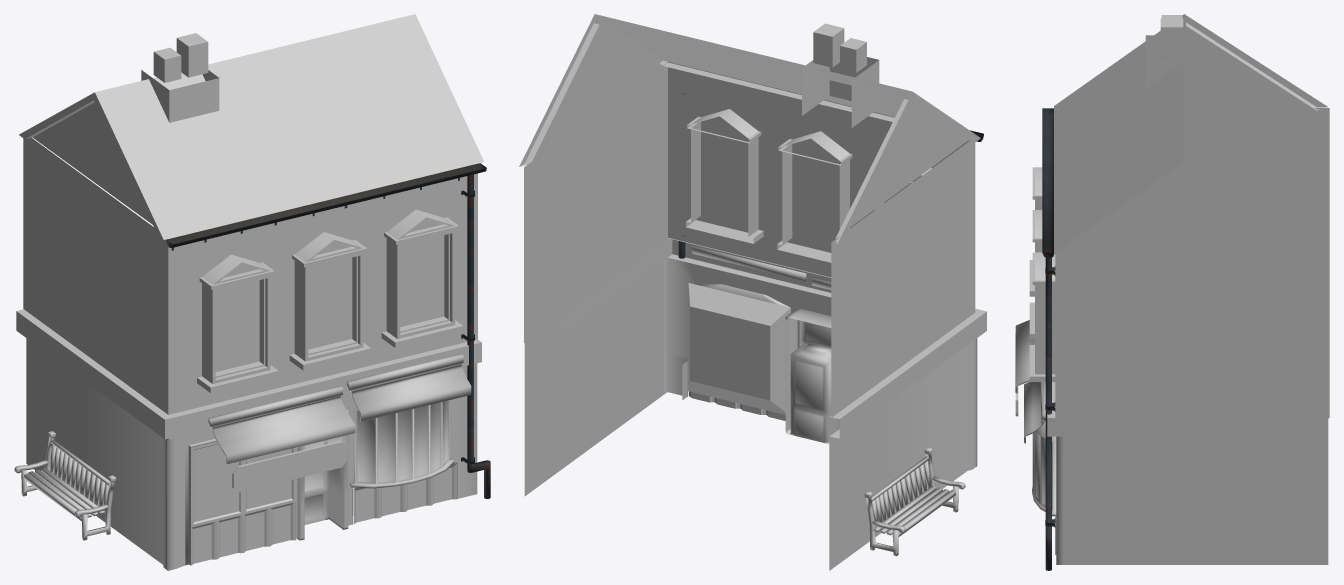
File: house.fbx
3 renders of one model, left to right at view 1: azimuth 30°, elevation 25°; view 2: azimuth 150°, elevation 25°; view 3: azimuth 270°, elevation 25°, orthographic. The views are drawn at different scales.
Parts seen in each view (by area): view 1: House; view 2: House; view 3: House.
Boxes of the visible parts, x1,y1,x2,y2 form: House: (14,14,490,570); House: (519,14,986,570); House: (1015,14,1329,570).
Bounding box in the file's own units: 947 × 1174 × 758.
